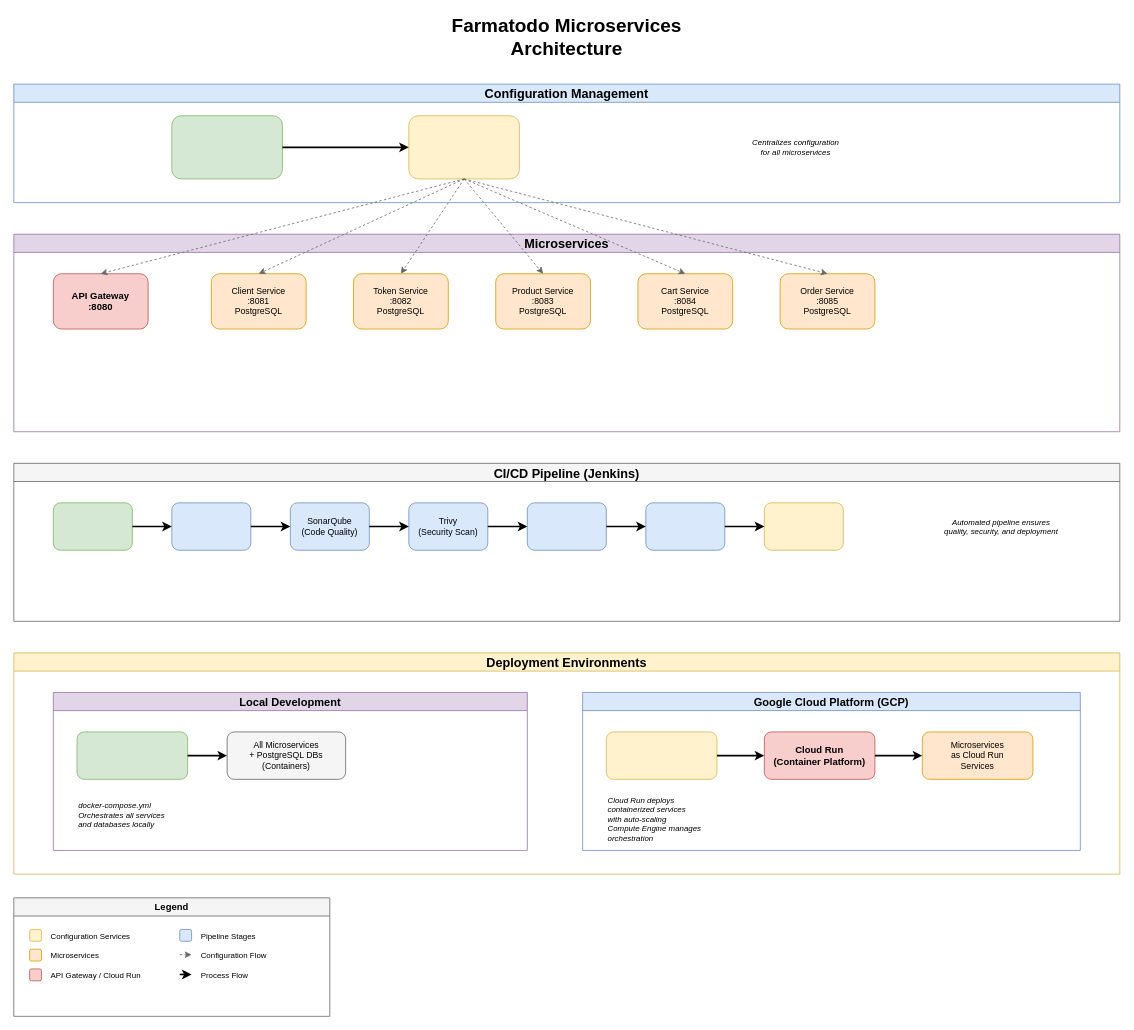
The diagram is 1134 pixels wide and 1030 high, and some of its shapes have lost their labels. The centre of each missing label's shape, as x and y in pixels:
"Compute Engine (Orchestration)" belongs at (x=661, y=755).
"Config Server (Spring Cloud Config)" belongs at (x=463, y=147).
"Config Service (Git Repository)" belongs at (x=226, y=147).
"Deploy to Cloud Run" belongs at (x=803, y=526).
"Docker Build" belongs at (x=566, y=526).
"Docker Compose" belongs at (x=132, y=755).
"Push to GCP Registry" belongs at (x=685, y=526).
"Source Code (GitHub)" belongs at (x=92, y=526).
"Unit Tests (Maven)" belongs at (x=211, y=526).
